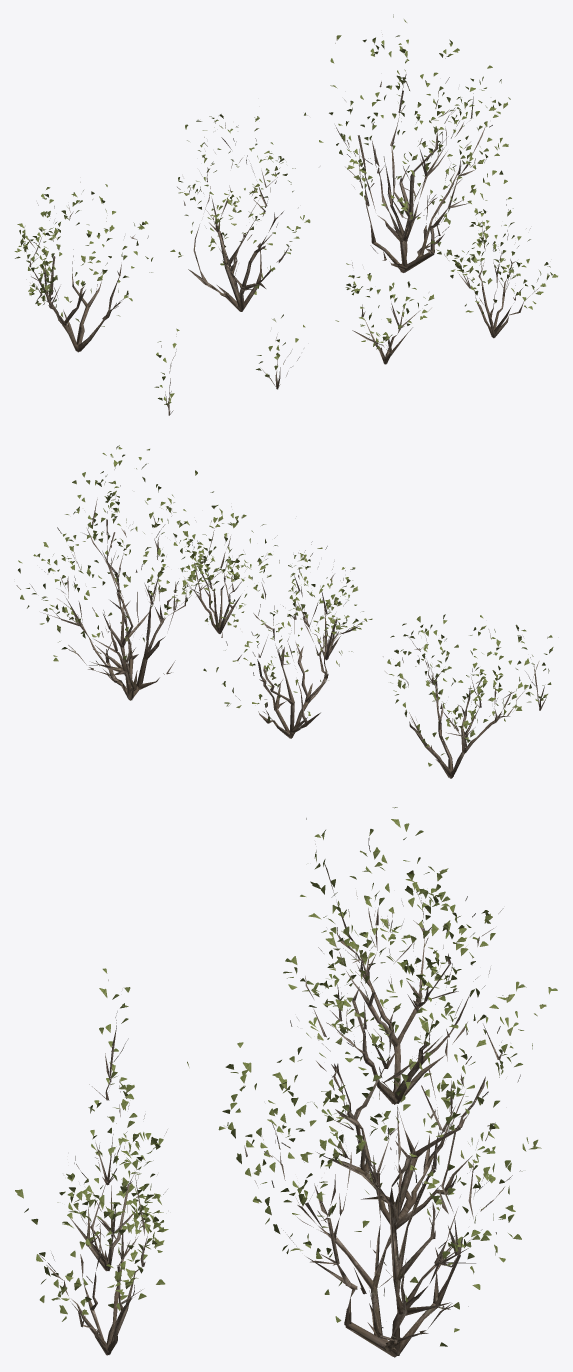
The model's file is searsia_lucida.light.glb.
3 renders of one model, top to bottom at view 1: azimuth 30°, elevation 25°; view 2: azimuth 150°, elevation 25°; view 3: azimuth 270°, elevation 25°, orthographic. The views are drawn at different scales.
Parts seen in each view (by area): view 1: searsia_lucida_a_LOD0, searsia_lucida_c_LOD0, searsia_lucida_b_LOD0, searsia_lucida_d_LOD0, searsia_lucida_e_LOD0; view 2: searsia_lucida_a_LOD0, searsia_lucida_b_LOD0, searsia_lucida_c_LOD0, searsia_lucida_d_LOD0, searsia_lucida_e_LOD0; view 3: searsia_lucida_a_LOD0, searsia_lucida_c_LOD0, searsia_lucida_b_LOD0, searsia_lucida_d_LOD0, searsia_lucida_e_LOD0.
Part boxes in pixels (x1,y1,x2,y2): searsia_lucida_a_LOD0: (304, 14, 510, 272); searsia_lucida_c_LOD0: (14, 182, 175, 352); searsia_lucida_b_LOD0: (177, 114, 310, 311); searsia_lucida_d_LOD0: (436, 181, 557, 338); searsia_lucida_e_LOD0: (335, 262, 434, 364); searsia_lucida_a_LOD0: (16, 445, 247, 700); searsia_lucida_b_LOD0: (203, 541, 356, 738); searsia_lucida_c_LOD0: (383, 614, 545, 778); searsia_lucida_d_LOD0: (173, 491, 277, 633); searsia_lucida_e_LOD0: (283, 567, 372, 660); searsia_lucida_a_LOD0: (187, 957, 541, 1357); searsia_lucida_c_LOD0: (287, 807, 503, 1104); searsia_lucida_b_LOD0: (283, 892, 557, 1229); searsia_lucida_d_LOD0: (15, 1113, 168, 1355); searsia_lucida_e_LOD0: (59, 1077, 167, 1271).
Bounding box in the file's own units: 1.92 × 0.9288 × 1.15.
2 materials, 2 textured.
